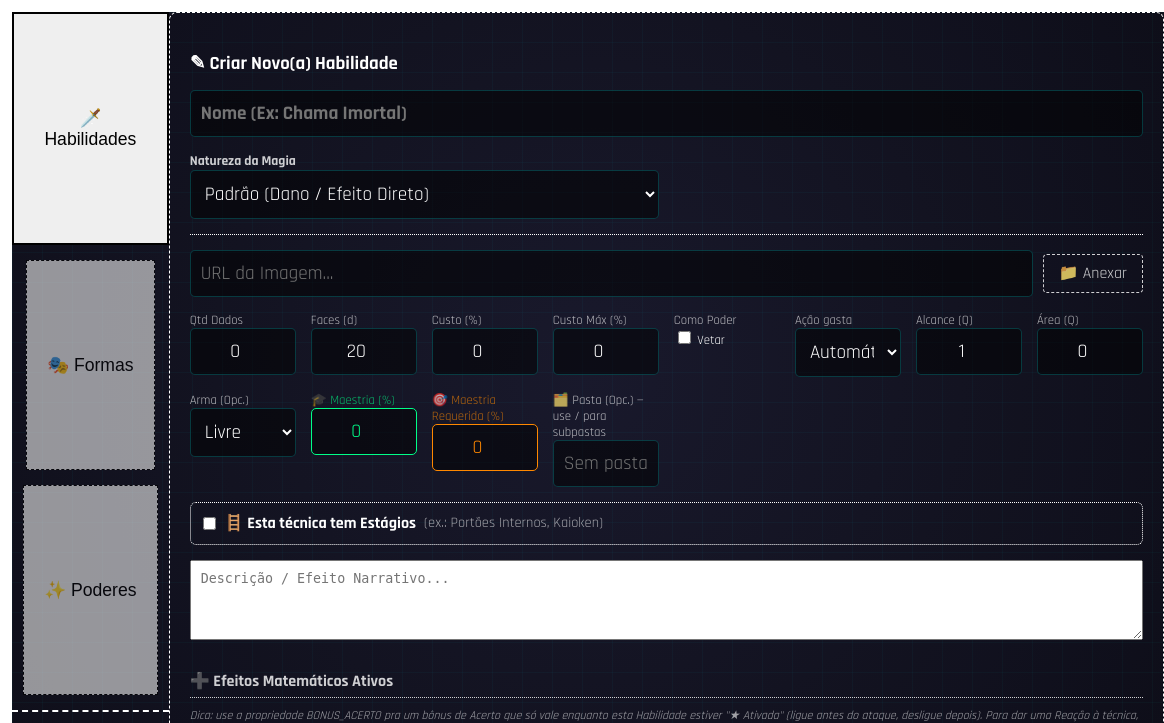
Scenario: PoderesFormEditor (UI) — "😮‍💨 Fadiga por Uso" é exclusivo de "forma"; "🗂️ Pasta" aparece em qualquer aba › clicar na aba "🎭 Formas" faz os dois campos aparecerem
Step 1. Click the button "🎭 Formas" → (90, 365), box [26,260,155,470]
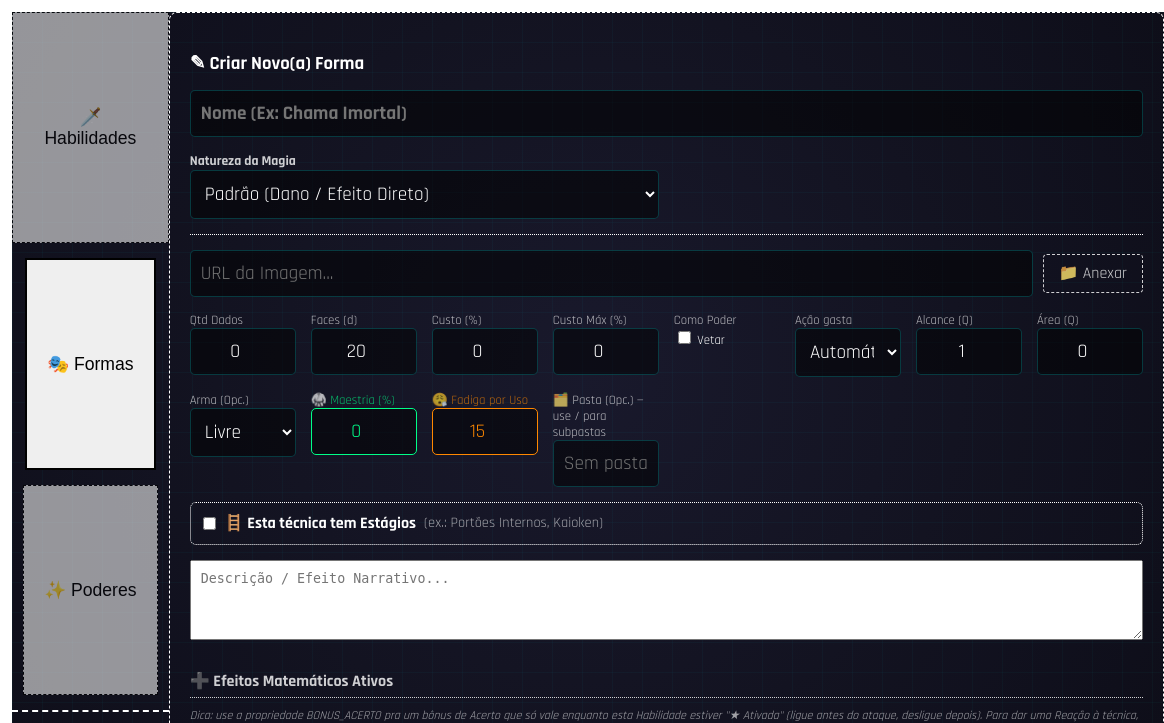
expect the text "🗂️ Pasta (Opc.) — use / para subpastas" is shown: met, box [553,392,659,440]
expect the text "😮‍💨 Fadiga por Uso" is shown: met, box [432,392,538,408]
